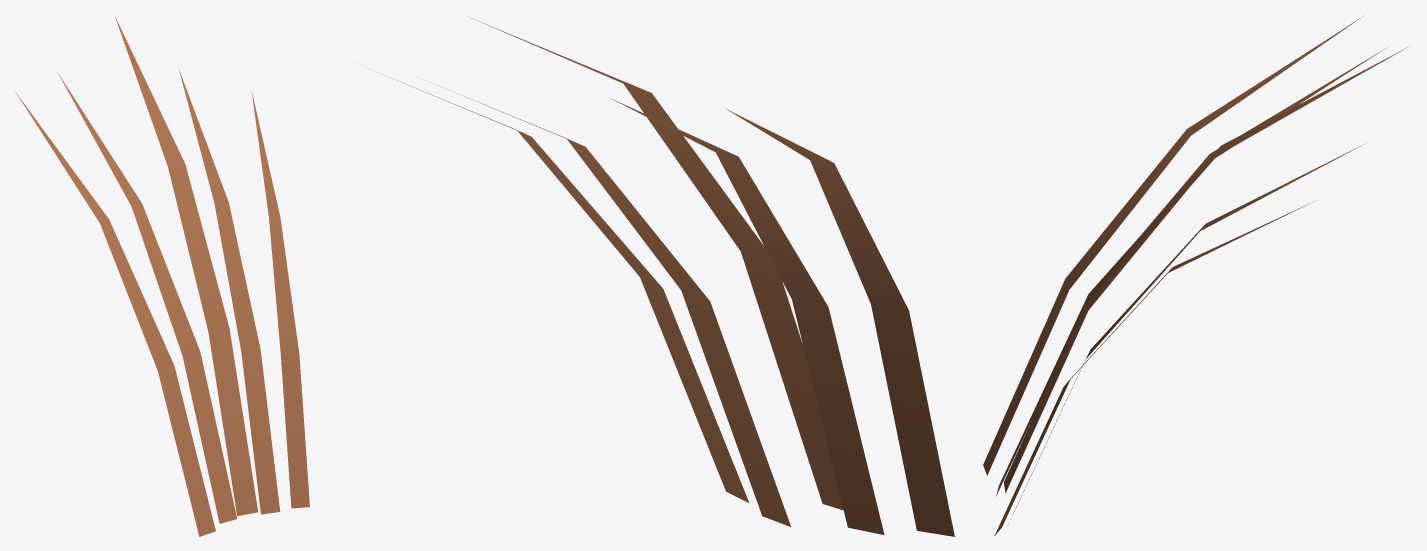
Rendered from SmallGrass.fbx.
3 views of the same model, side by side, from view 1: azimuth 30°, elevation 25°; view 2: azimuth 150°, elevation 25°; view 3: azimuth 270°, elevation 25° (orthographic). The views are drawn at different scales.
Parts seen in each view (by area): view 1: smallgrass11; view 2: smallgrass11; view 3: smallgrass11.
Boxes of the visible parts, x1=… form: smallgrass11: x1=15, y1=15, x2=309, y2=536; smallgrass11: x1=373, y1=18, x2=954, y2=536; smallgrass11: x1=983, y1=15, x2=1407, y2=535.
Bounding box in the file's own units: 0.2661 × 0.4418 × 0.3599.
